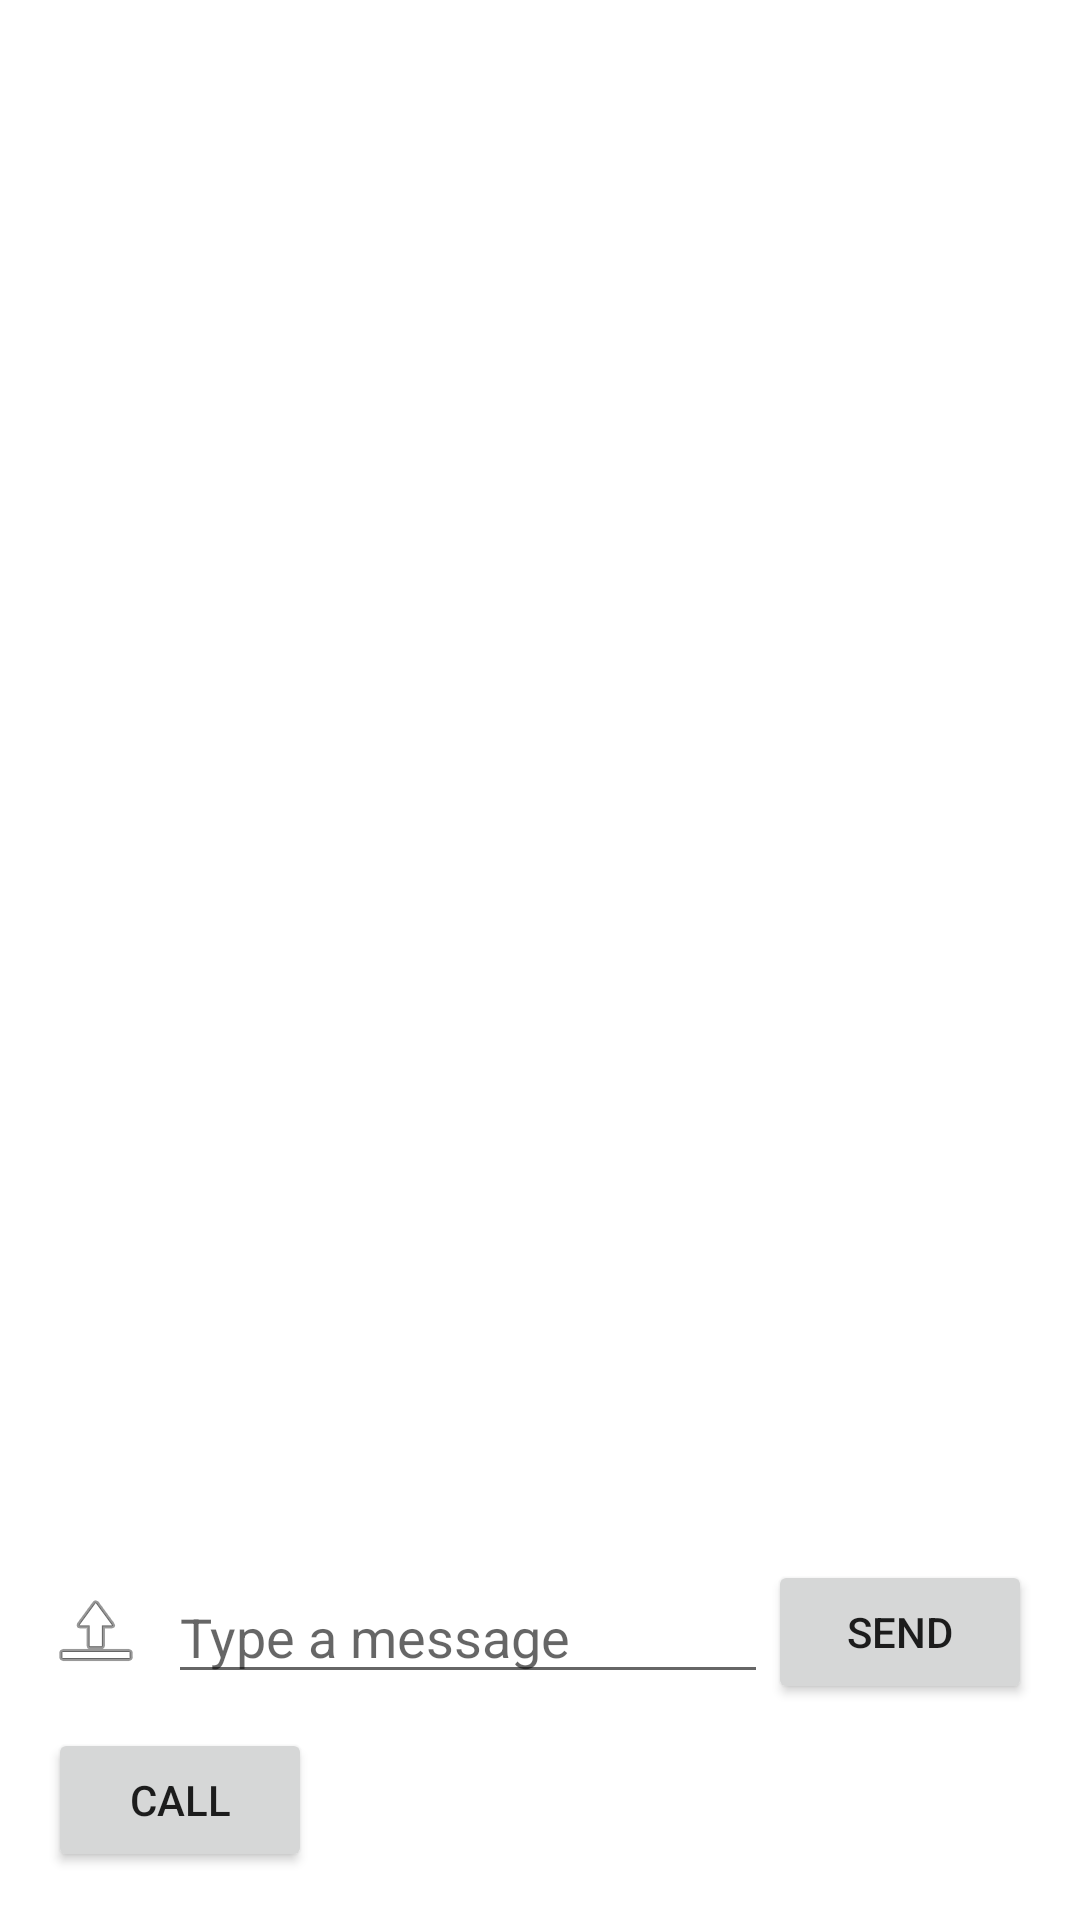

Named icons in this screenshot (1080w x 1920h) and their bounding boxes, {"left": x1, "top": y1, "right": x2, "bottom": y2}:
Attach file: {"left": 59, "top": 1600, "right": 133, "bottom": 1661}
